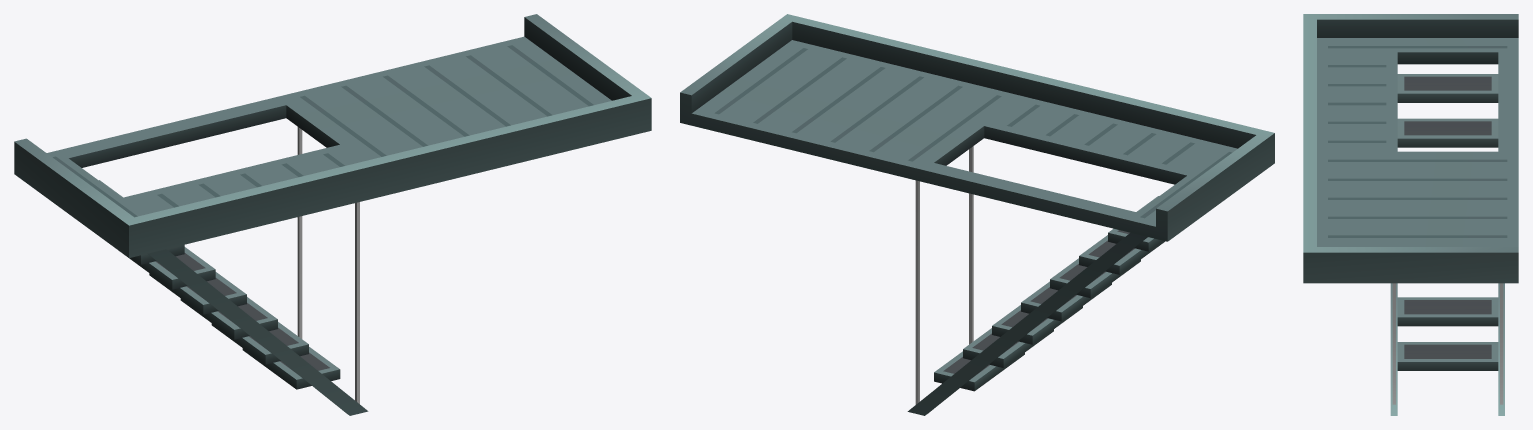
The model's file is Emergency_Stairs_1A.fbx.
3 renders of one model, left to right at view 1: azimuth 30°, elevation 25°; view 2: azimuth 150°, elevation 25°; view 3: azimuth 270°, elevation 25°, orthographic. The views are drawn at different scales.
Parts seen in each view (by area): view 1: Emergency_Stairs_1A; view 2: Emergency_Stairs_1A; view 3: Emergency_Stairs_1A.
Boxes of the visible parts, x1,y1,x2,y2 form: Emergency_Stairs_1A: (14, 14, 651, 415); Emergency_Stairs_1A: (680, 14, 1274, 415); Emergency_Stairs_1A: (1303, 14, 1518, 415).
Bounding box in the file's own units: 256 × 136 × 97.54.
